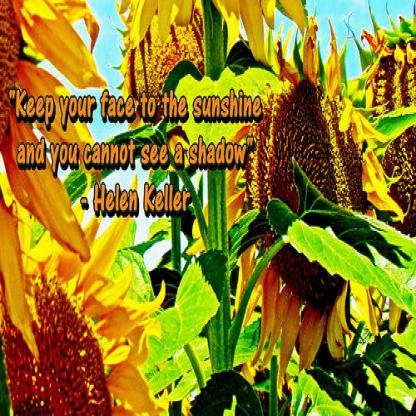SUN FLOWER: (229, 26, 385, 352)
